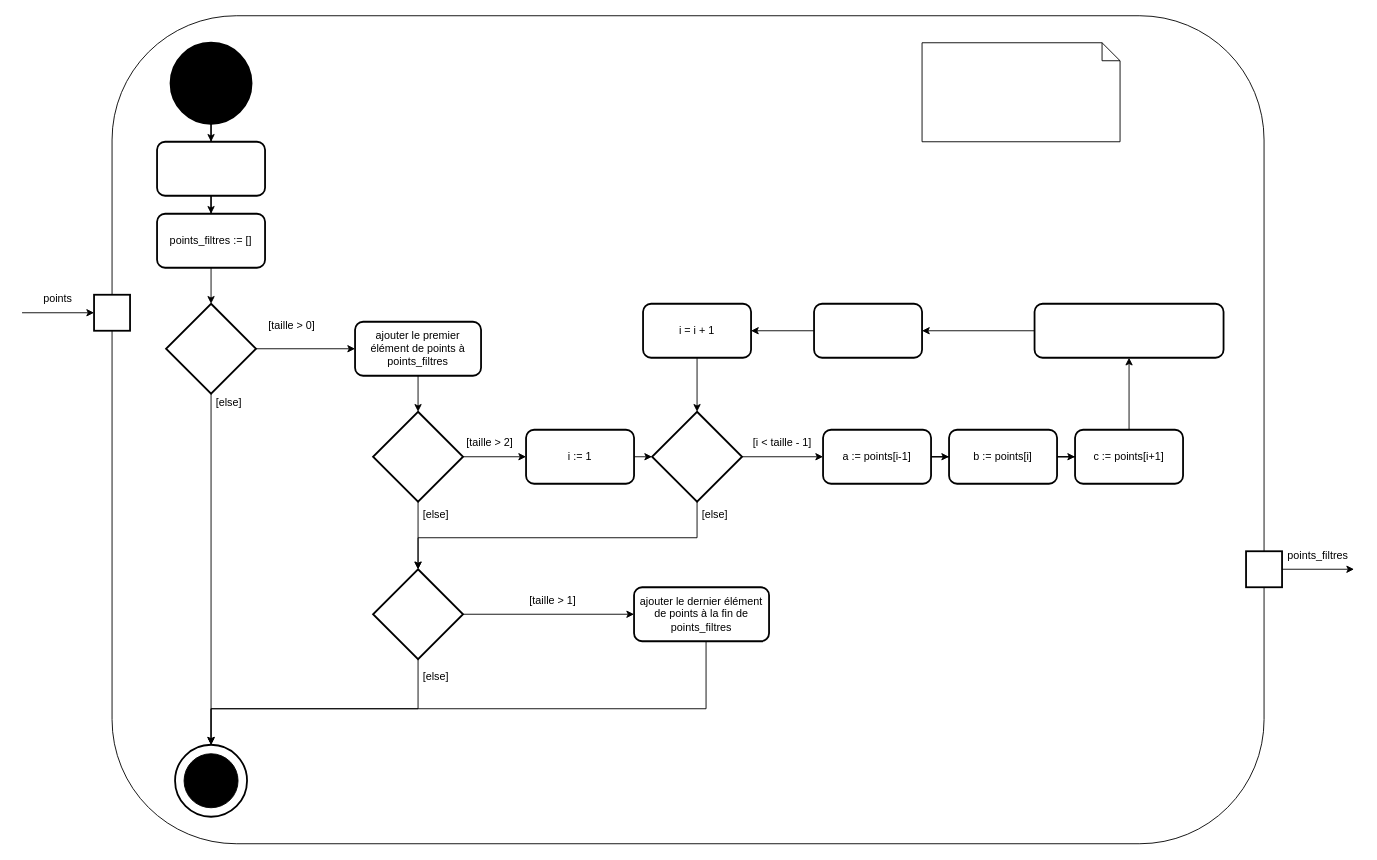
This 1377x860 diagram has some shape labels left out. The shapes that lost their labels are listed below. From the top down, each one's centre as x and y in pixels, then its label:
At point 1020,92: "points (liste de float) points_filtres (liste de float)".
At point 211,168: "taille := longueur de points".
At point 867,330: "ajouter mediane à la fin de points_filtres".
At point 1128,330: "mediane := mediane_3nb de a, b, c".
